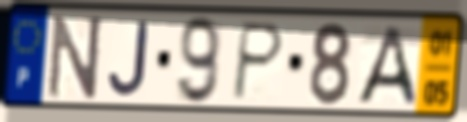8: (307, 20, 356, 108)
9: (176, 14, 223, 107)
A: (353, 24, 419, 108)
J: (106, 18, 152, 99)
N: (45, 13, 106, 101)
P: (228, 20, 288, 103)
